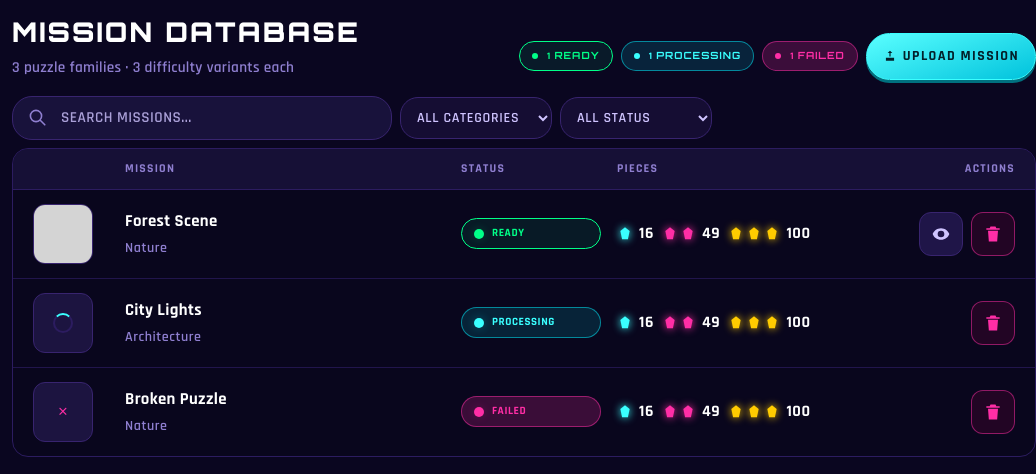
it: AdminPuzzlesPanel › shows the filtered count while criteria are active
Type "Forest" into the search field named "Search puzzles" at (202, 118), box [12,96,392,140]
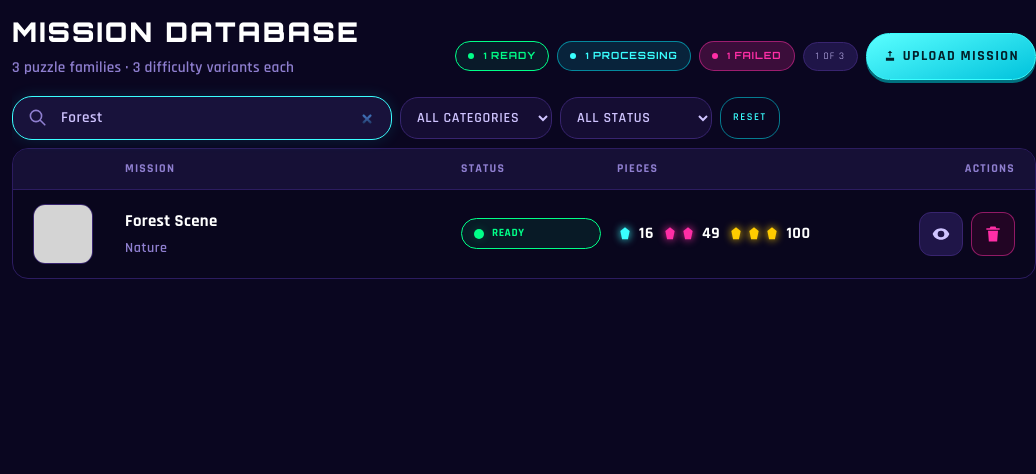
Now the text "1 OF 3" is shown, box [802,42,858,71]
